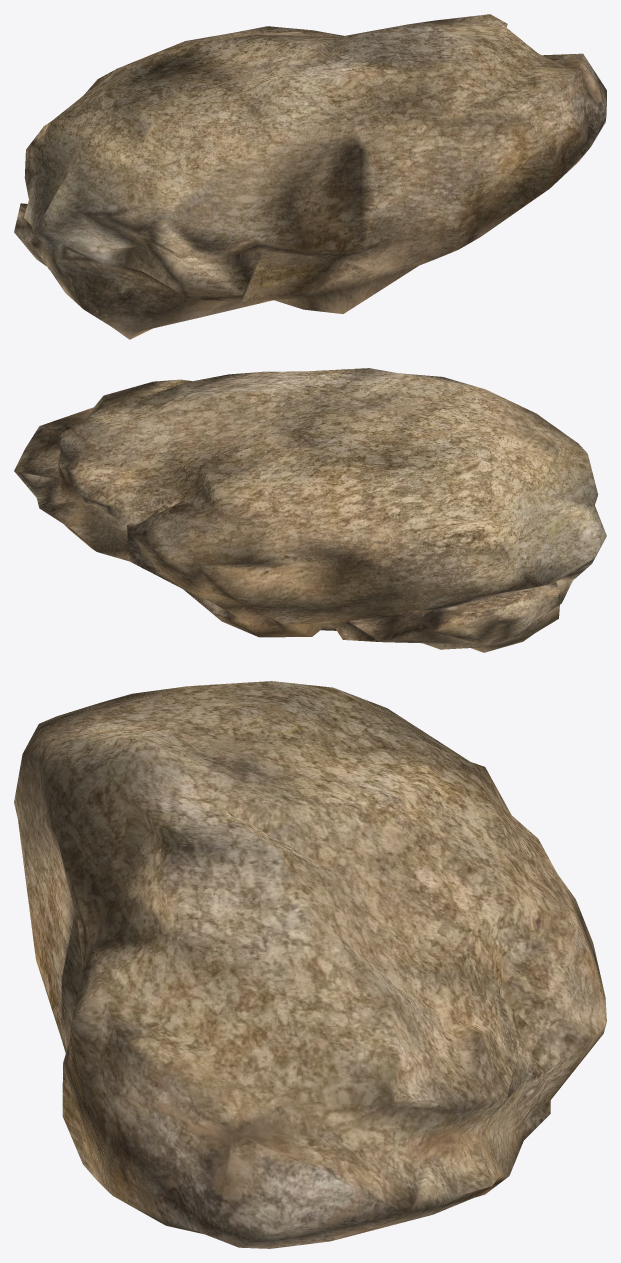
Rendered from ph_namaqualand_boulder_05.glb.
3 renders of one model, top to bottom at view 1: azimuth 30°, elevation 25°; view 2: azimuth 150°, elevation 25°; view 3: azimuth 270°, elevation 25°, orthographic. The views are drawn at different scales.
Parts seen in each view (by area): view 1: namaqualand_boulder_05; view 2: namaqualand_boulder_05; view 3: namaqualand_boulder_05.
Boxes of the visible parts, x1,y1,x2,y2 form: namaqualand_boulder_05: [14, 14, 606, 339]; namaqualand_boulder_05: [14, 368, 606, 652]; namaqualand_boulder_05: [14, 681, 606, 1248].
Bounding box in the file's own units: 1.36 × 0.5338 × 0.7452.
Materials: 1 (1 with a texture image).
